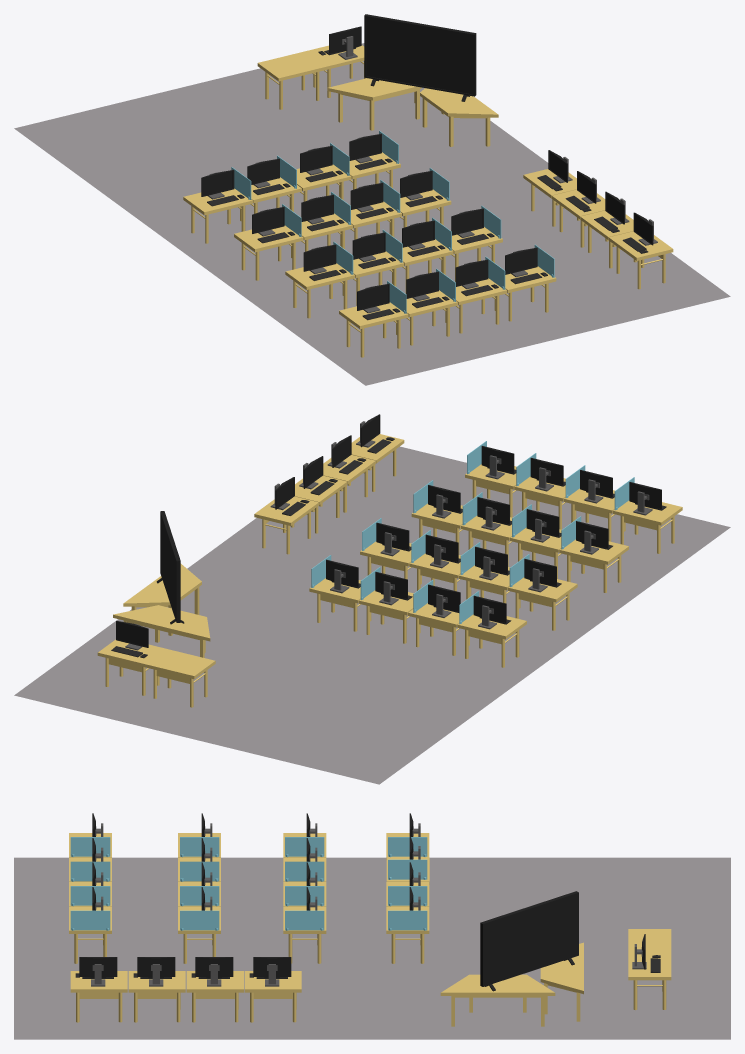
File: ModelPowerBIcolors.glb
3 renders of one model, top to bottom at view 1: azimuth 30°, elevation 25°; view 2: azimuth 150°, elevation 25°; view 3: azimuth 270°, elevation 25°, orthographic.
Visible parts, largest first — view 1: Plane, Tv, MesaTv, MesaTv.001, MesaInst, Mesa.004, Mesa.012, Mesa.008, Mesa, Mesa.019, Mesa.014, Mesa.015 (+31 smaller); view 2: Plane, MesaTv.001, MesaInst, Tv, MesaTv, Mesa, Mesa.008, Mesa.012, Mesa.004, MesaInst.001, Mesa.016, Mesa.002 (+31 smaller); view 3: Plane, Tv, MesaTv, MesaTv.001, Mesa.016, Mesa.018, Mesa.019, Mesa.017, MesaInst.001, MesaInst, pc.016, pc.017 (+22 smaller).
Boxes of the visible parts, left/top/right/bottom form: Plane: left=14, top=43, right=730, bottom=385; Tv: left=364, top=14, right=476, bottom=101; MesaTv: left=420, top=88, right=498, bottom=146; MesaTv.001: left=327, top=78, right=421, bottom=130; MesaInst: left=257, top=51, right=327, bottom=109; Mesa.004: left=234, top=225, right=303, bottom=280; Mesa.012: left=339, top=302, right=408, bottom=357; Mesa.008: left=285, top=263, right=354, bottom=318; Mesa: left=183, top=188, right=252, bottom=243; Mesa.019: left=608, top=231, right=673, bottom=289; Mesa.014: left=445, top=278, right=507, bottom=333; Mesa.015: left=494, top=266, right=556, bottom=321; Plane: left=14, top=446, right=730, bottom=784; MesaTv.001: left=113, top=605, right=210, bottom=657; MesaInst: left=145, top=649, right=215, bottom=707; Tv: left=156, top=511, right=184, bottom=624; MesaTv: left=123, top=563, right=201, bottom=635; Mesa: left=457, top=614, right=526, bottom=667; Mesa.008: left=559, top=539, right=628, bottom=592; Mesa.012: left=613, top=500, right=682, bottom=553; Mesa.004: left=508, top=577, right=577, bottom=630; MesaInst.001: left=97, top=639, right=166, bottom=695; Mesa.016: left=254, top=496, right=318, bottom=554; Mesa.002: left=358, top=590, right=420, bottom=643; Plane: left=14, top=857, right=730, bottom=1039; Tv: left=480, top=891, right=578, bottom=991; MesaTv: left=440, top=974, right=555, bottom=1026; MesaTv.001: left=540, top=942, right=583, bottom=1021; Mesa.016: left=244, top=971, right=301, bottom=1022; Mesa.018: left=128, top=971, right=185, bottom=1022; Mesa.019: left=70, top=971, right=127, bottom=1022; Mesa.017: left=186, top=971, right=243, bottom=1022; MesaInst.001: left=628, top=953, right=671, bottom=1010; MesaInst: left=628, top=929, right=671, bottom=952; pc.016: left=253, top=957, right=291, bottom=986; pc.017: left=195, top=957, right=233, bottom=986.
Bounding box in the file's own units: 6 × 1.59 × 10.
